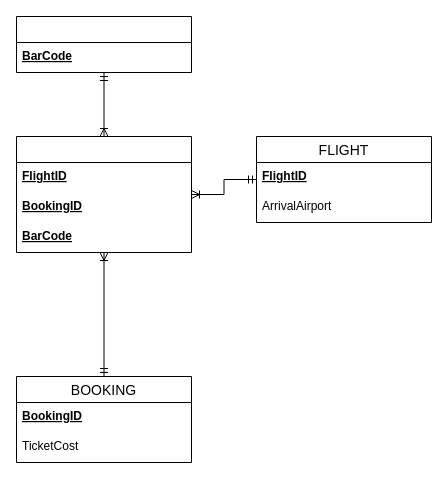
This 448x479 diagram has some shape labels left out. Here are the shapes that lost their labels. From the top down, the box of each, then its label:
(16, 16, 192, 72): TICKET
(16, 136, 192, 252): DestinationCostsAnalysis
